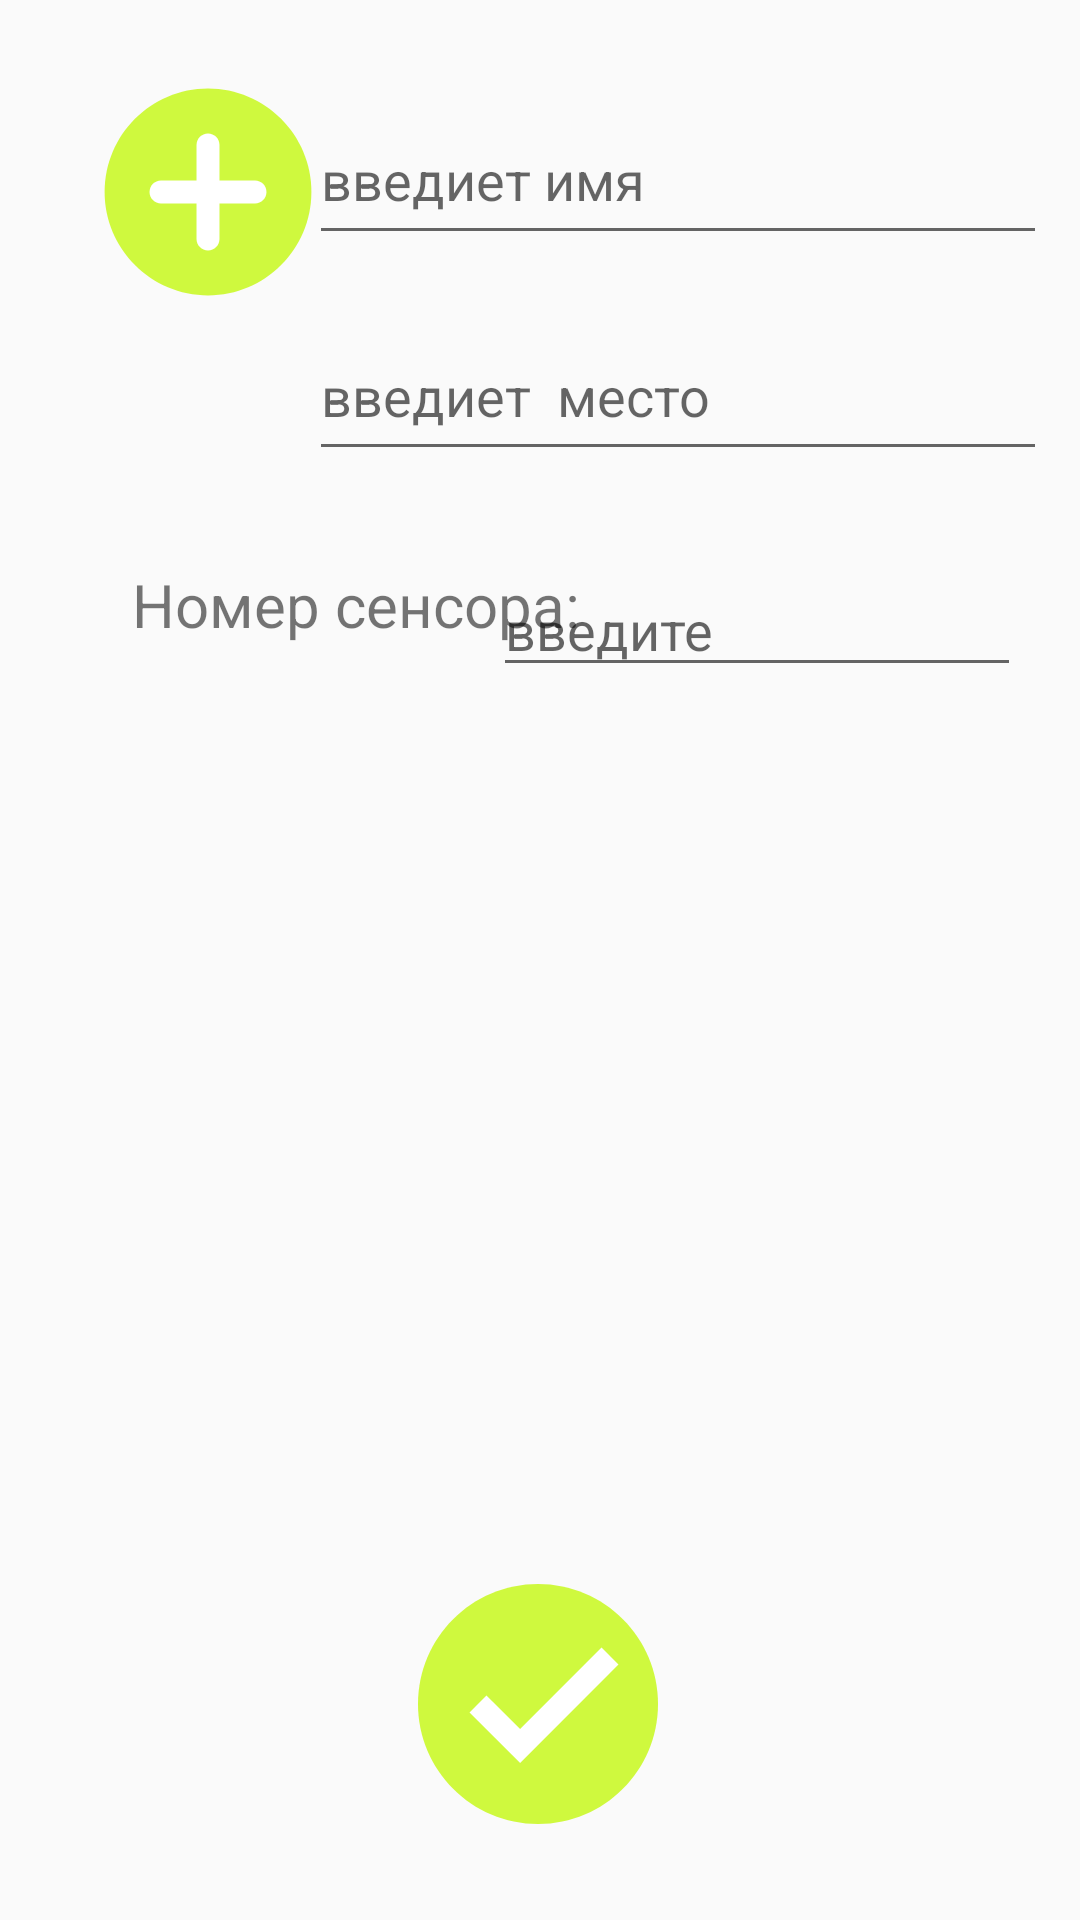

Where icons sit on this 1080px x 1920px app screen, as (x1, y1, x2, y2):
addbutton: (104, 88, 349, 296)
